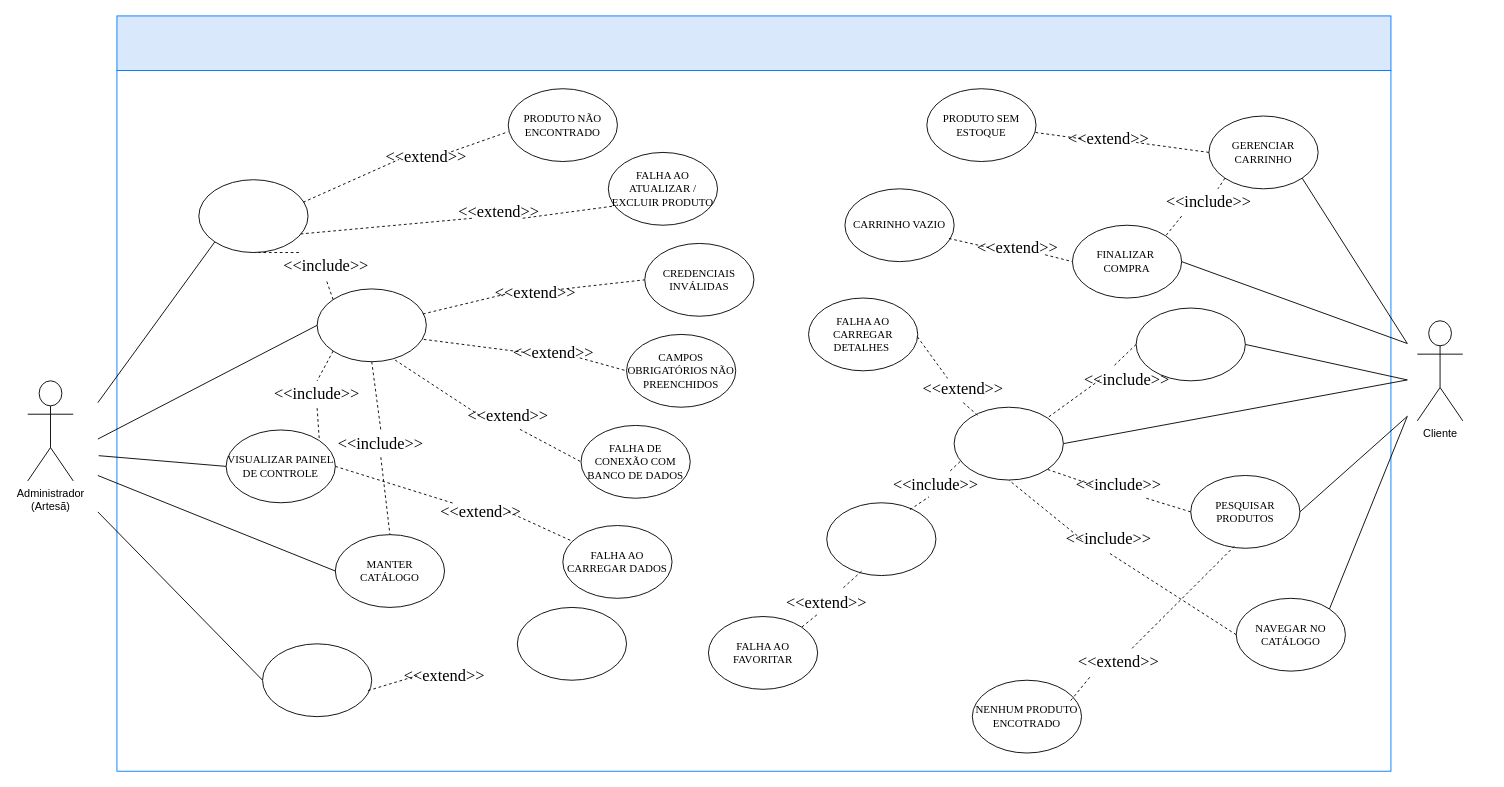
Image size: 1504x787. Some labels were removed from this diagram. The shapes that lost their labels are listed below. From the top down, each one's box as (x1, y1, x2, y2) in pixels, then its label:
(116, 15, 1391, 71): Sorriso do Cerrado
(198, 179, 308, 253): GERENCIAR PRODUTO PRODUTO
(316, 288, 426, 362): FAZER LOGIN
(1135, 307, 1245, 381): CONSULTAR VITRINE
(953, 406, 1063, 480): VISUALIZAR DETALHES DO PRODUTO
(826, 502, 936, 576): FAVORITAR PRODUTO
(516, 607, 627, 680): DADOS INCOMPLETOS
(262, 643, 372, 717): CADASTRAR ARTESÃO
